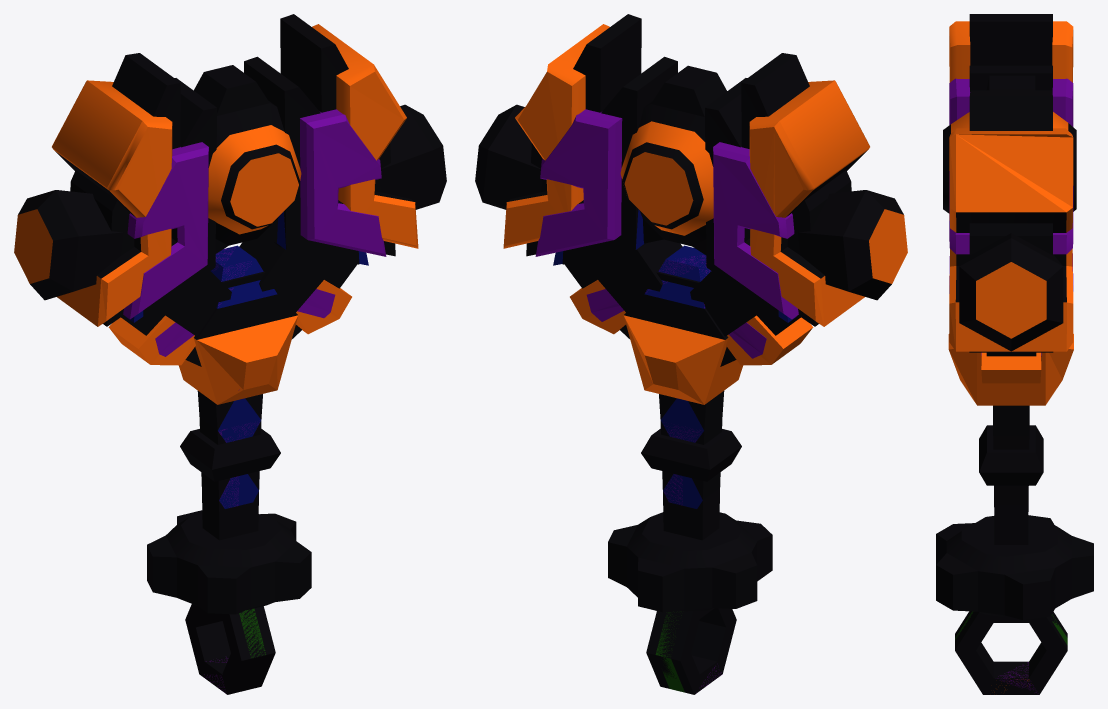
Rendered from 01_player_M_W.FBX.
3 views of the same model, side by side, from view 1: azimuth 30°, elevation 25°; view 2: azimuth 150°, elevation 25°; view 3: azimuth 270°, elevation 25° (orthographic).
Parts seen in each view (by area): view 1: 01_player_M_5, 01_player_M_4, 01_player_M_1, 01_player_M_3, 01_player_M_2; view 2: 01_player_M_5, 01_player_M_4, 01_player_M_1, 01_player_M_3, 01_player_M_2; view 3: 01_player_M_5, 01_player_M_4, 01_player_M_1, 01_player_M_3, 01_player_M_2.
Part boxes in pixels (x1=…): 01_player_M_5: x1=14, y1=14, x2=446, y2=614; 01_player_M_4: x1=123, y1=56, x2=386, y2=692; 01_player_M_1: x1=156, y1=238, x2=339, y2=694; 01_player_M_3: x1=125, y1=212, x2=368, y2=540; 01_player_M_2: x1=229, y1=607, x2=275, y2=691; 01_player_M_5: x1=475, y1=14, x2=907, y2=687; 01_player_M_4: x1=535, y1=56, x2=798, y2=692; 01_player_M_1: x1=582, y1=239, x2=765, y2=694; 01_player_M_3: x1=553, y1=209, x2=796, y2=540; 01_player_M_2: x1=647, y1=611, x2=693, y2=694; 01_player_M_5: x1=936, y1=14, x2=1093, y2=692; 01_player_M_4: x1=949, y1=65, x2=1073, y2=693; 01_player_M_1: x1=955, y1=611, x2=1067, y2=694; 01_player_M_3: x1=993, y1=405, x2=1029, y2=544; 01_player_M_2: x1=955, y1=611, x2=1067, y2=649.
Bounding box in the file's own units: 113 × 169 × 38.26.
